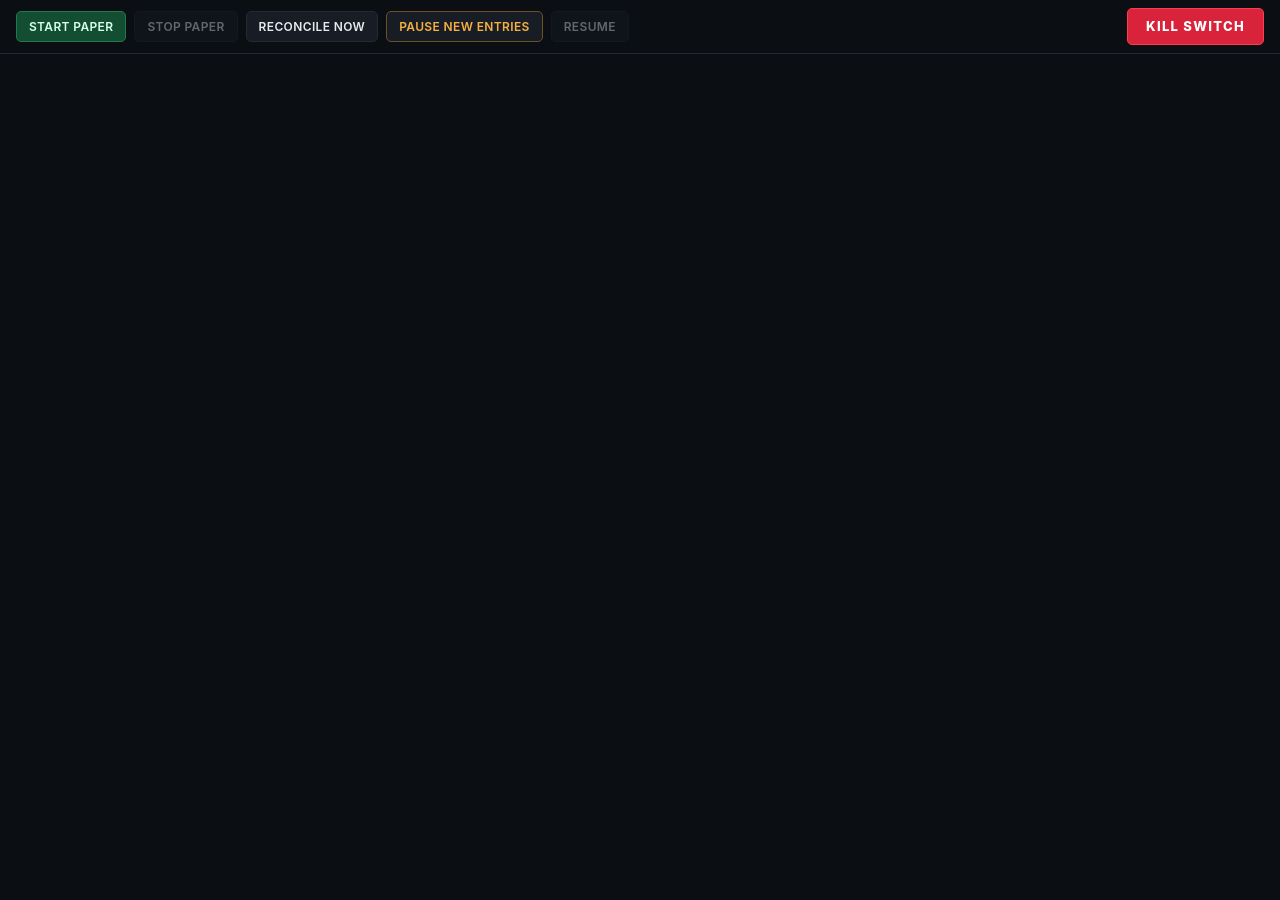
Scenario: controls › kill switch requires typing KILL before it calls the backend
Later steps or results of the test are not shown.
Click the button "KILL SWITCH" at point(1196, 26), box [1127,8,1264,45]
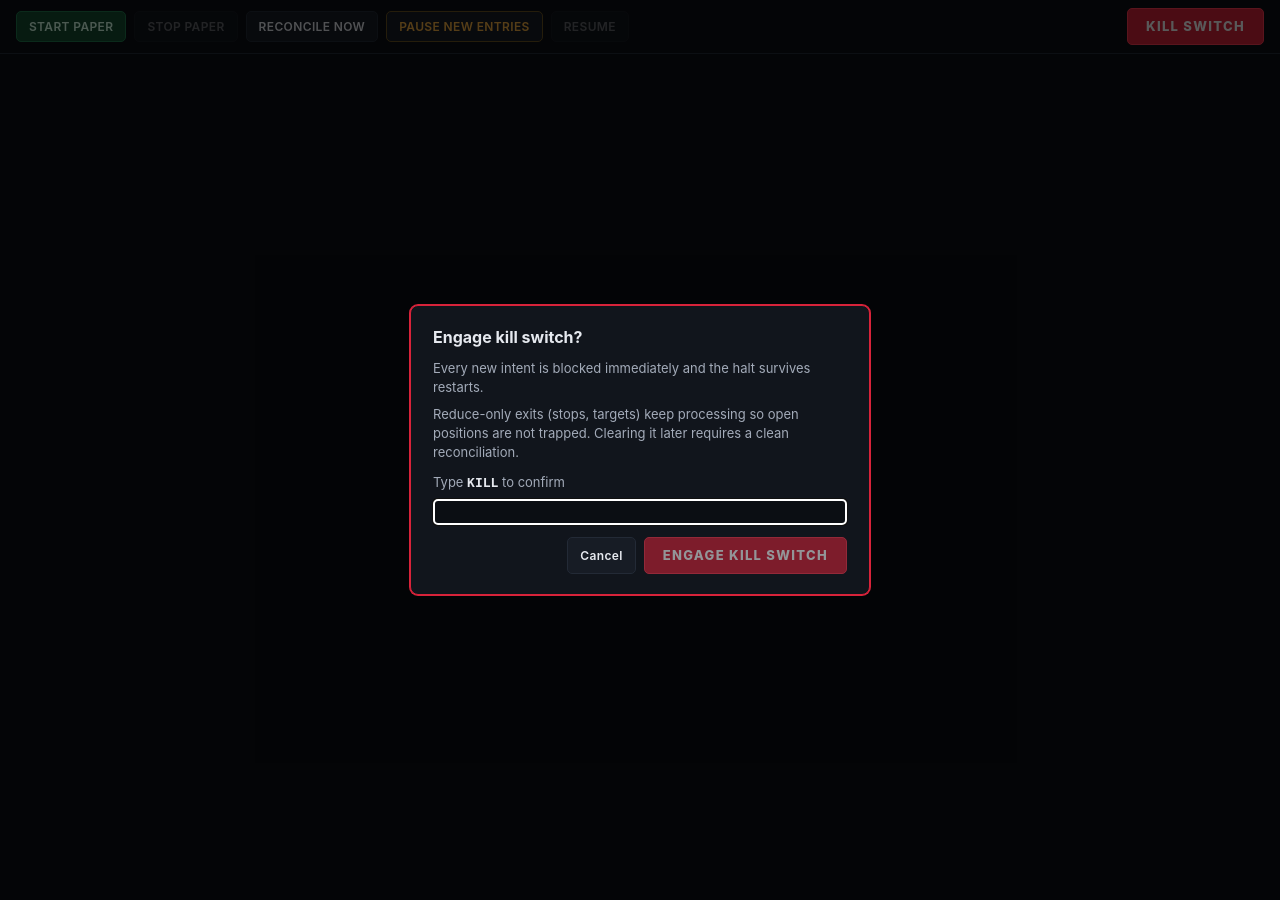
Result: the button "ENGAGE KILL SWITCH" is disabled at [644,537,847,574]
Type "kill" into the field labelled "Type KILL to confirm" at point(640, 512), box [433,499,847,525]
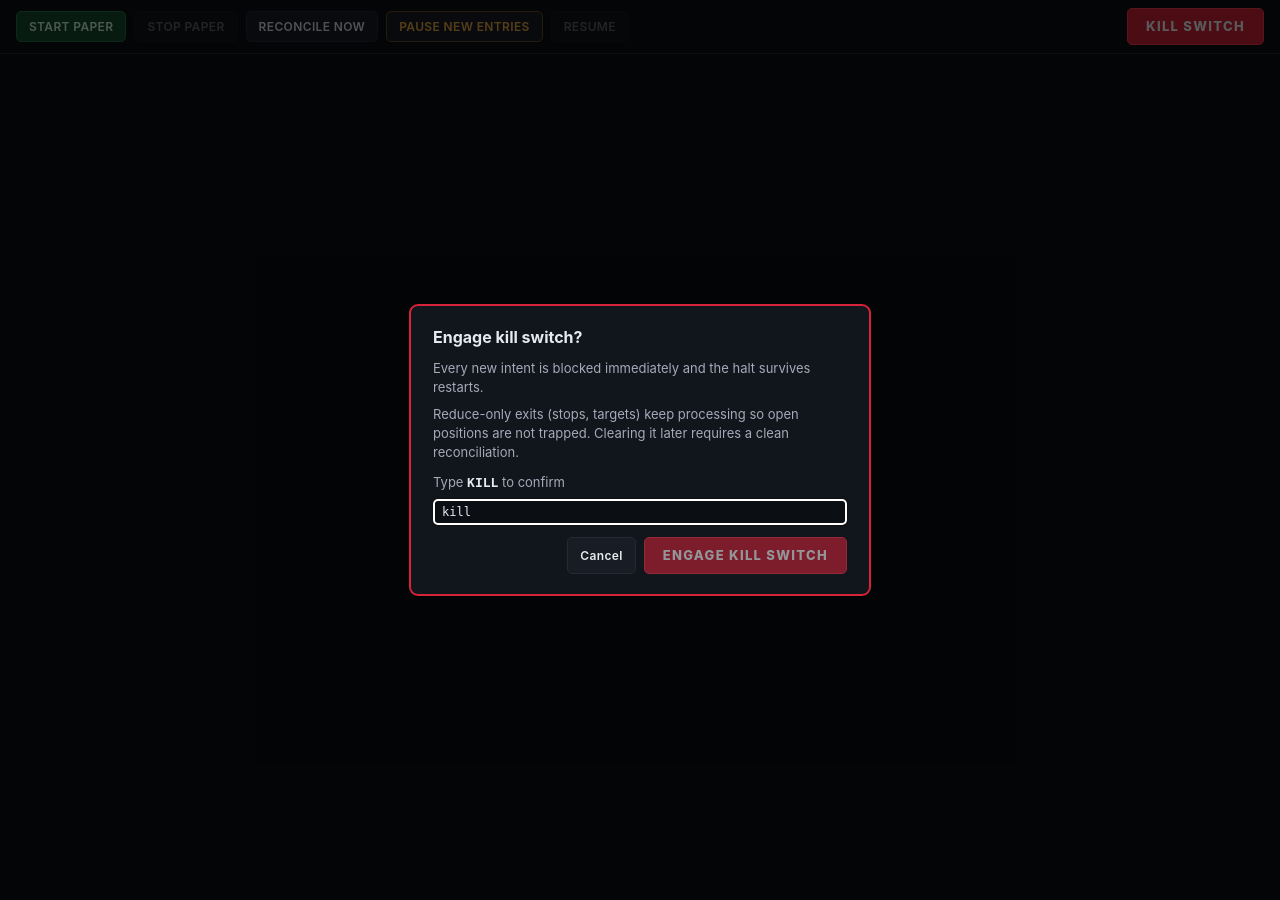
Result: the button "ENGAGE KILL SWITCH" is disabled at [644,537,847,574]
